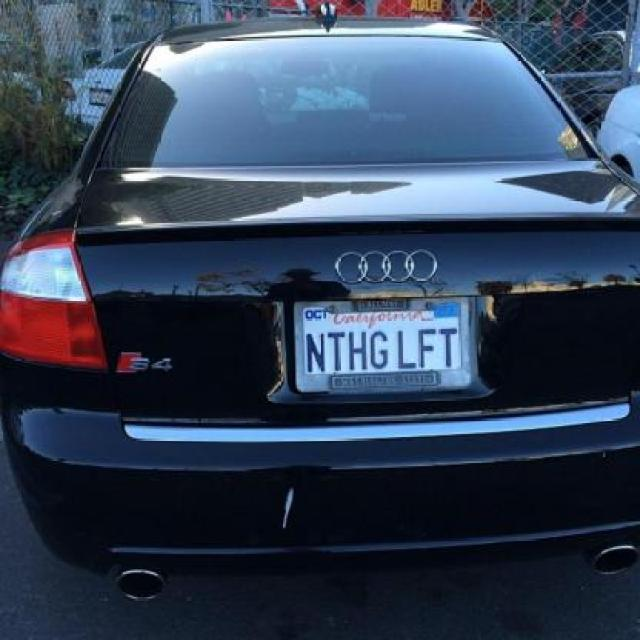Licenseplate: (281, 291, 477, 401)
